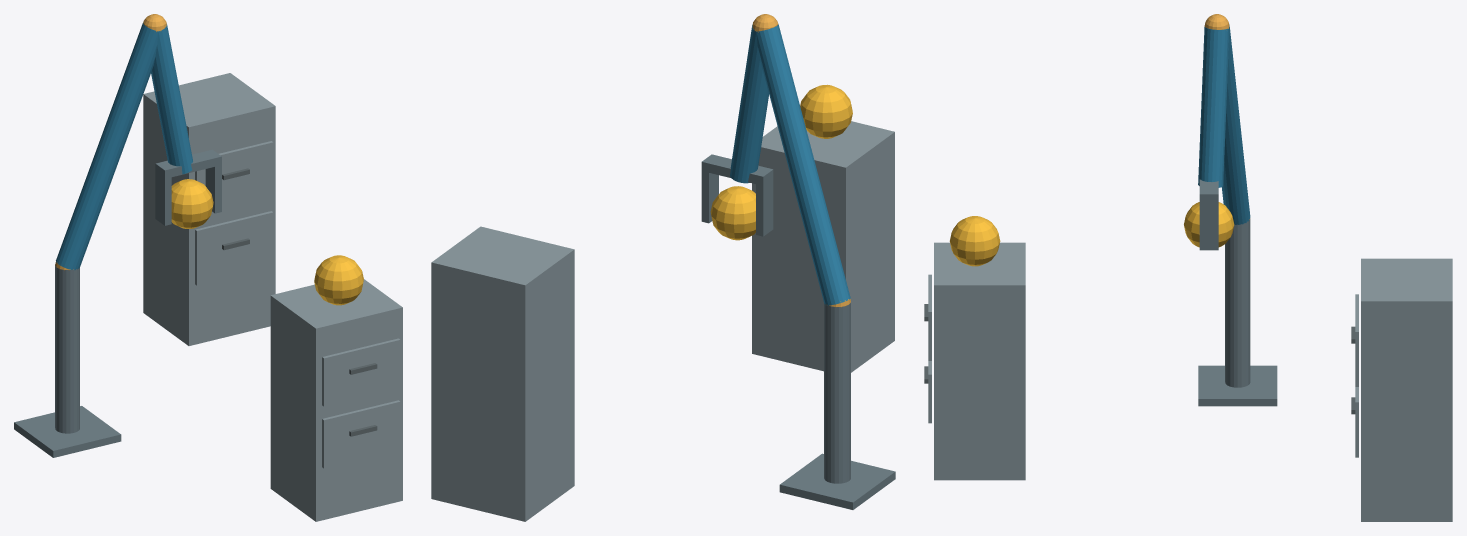
3 renders of one model, left to right at view 1: azimuth 30°, elevation 25°; view 2: azimuth 150°, elevation 25°; view 3: azimuth 270°, elevation 25°, orthographic. The views are drawn at different scales.
Parts seen in each view (by area): view 1: cabinet_1 body, cabinet_2 body, moving link 1, cabinet_2 drawer front, fixed post, cabinet_1 drawer front, cabinet_1 drawer front.001, moving link 2, cabinet_2 drawer front.001, pedestal, released ball_1, ball ball_2 (+3 smaller); view 2: cabinet_2 body, cabinet_1 body, moving link 1, fixed post, moving link 2, pedestal, released ball_1, ball ball_2, gripper finger -1, gripper bridge, gripper finger 1; view 3: cabinet_2 body, cabinet_1 body, fixed post, moving link 2, moving link 1, pedestal, released ball_1, ball ball_2, gripper finger 1.
Boxes of the visible parts, x1,y1,x2,y2 form: cabinet_1 body: [270, 279, 402, 521]; cabinet_2 body: [143, 73, 275, 345]; moving link 1: [56, 22, 158, 270]; cabinet_2 drawer front: [195, 211, 273, 285]; fixed post: [55, 264, 79, 433]; cabinet_1 drawer front: [322, 400, 400, 468]; cabinet_1 drawer front.001: [322, 338, 400, 406]; moving link 2: [151, 24, 192, 174]; cabinet_2 drawer front.001: [195, 141, 273, 211]; pedestal: [14, 406, 121, 457]; released ball_1: [314, 255, 363, 305]; ball ball_2: [171, 179, 213, 228]; cabinet_2 body: [431, 226, 574, 521]; cabinet_1 body: [752, 121, 894, 372]; moving link 1: [756, 24, 850, 305]; fixed post: [824, 302, 850, 483]; moving link 2: [730, 25, 768, 183]; pedestal: [779, 453, 895, 509]; released ball_1: [800, 84, 852, 138]; ball ball_2: [710, 186, 755, 240]; gripper finger -1: [756, 179, 773, 236]; gripper bridge: [701, 154, 773, 185]; gripper finger 1: [701, 171, 718, 223]; cabinet_2 body: [1361, 258, 1452, 521]; cabinet_1 body: [934, 242, 1025, 480]; fixed post: [1225, 218, 1250, 387]; moving link 2: [1198, 27, 1229, 187]; moving link 1: [1221, 26, 1250, 224]; pedestal: [1198, 365, 1277, 406]; released ball_1: [949, 216, 1000, 266]; ball ball_2: [1184, 202, 1234, 247]; gripper finger 1: [1199, 203, 1218, 250].
Bounding box in the file's own units: 1.12 × 1.44 × 1.67.
